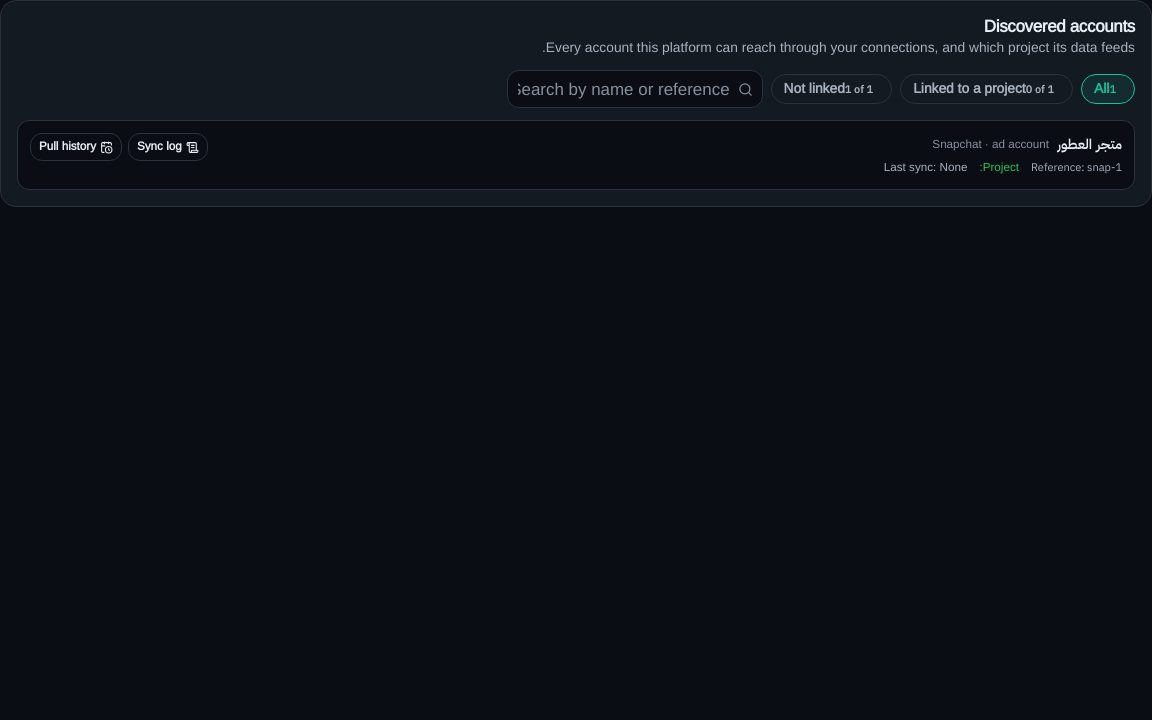
the account sync log › says nothing about a wait nobody measured
Click the button with test id "account-logs-a1".
click(168, 147)  # box [128,134,208,161]
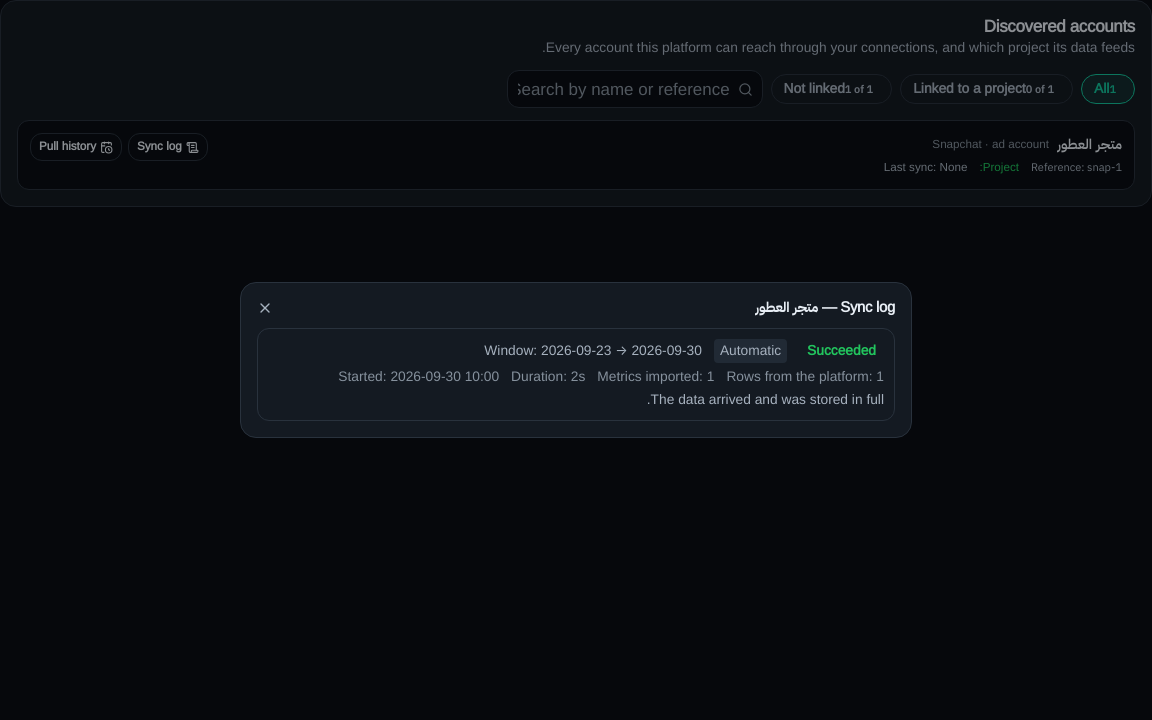
Check: the list item with test id "account-log-row" is shown, box [257,328,895,421]
